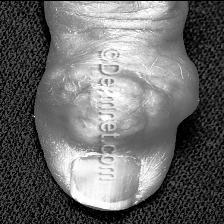Unclassified: (46, 84, 136, 146)
